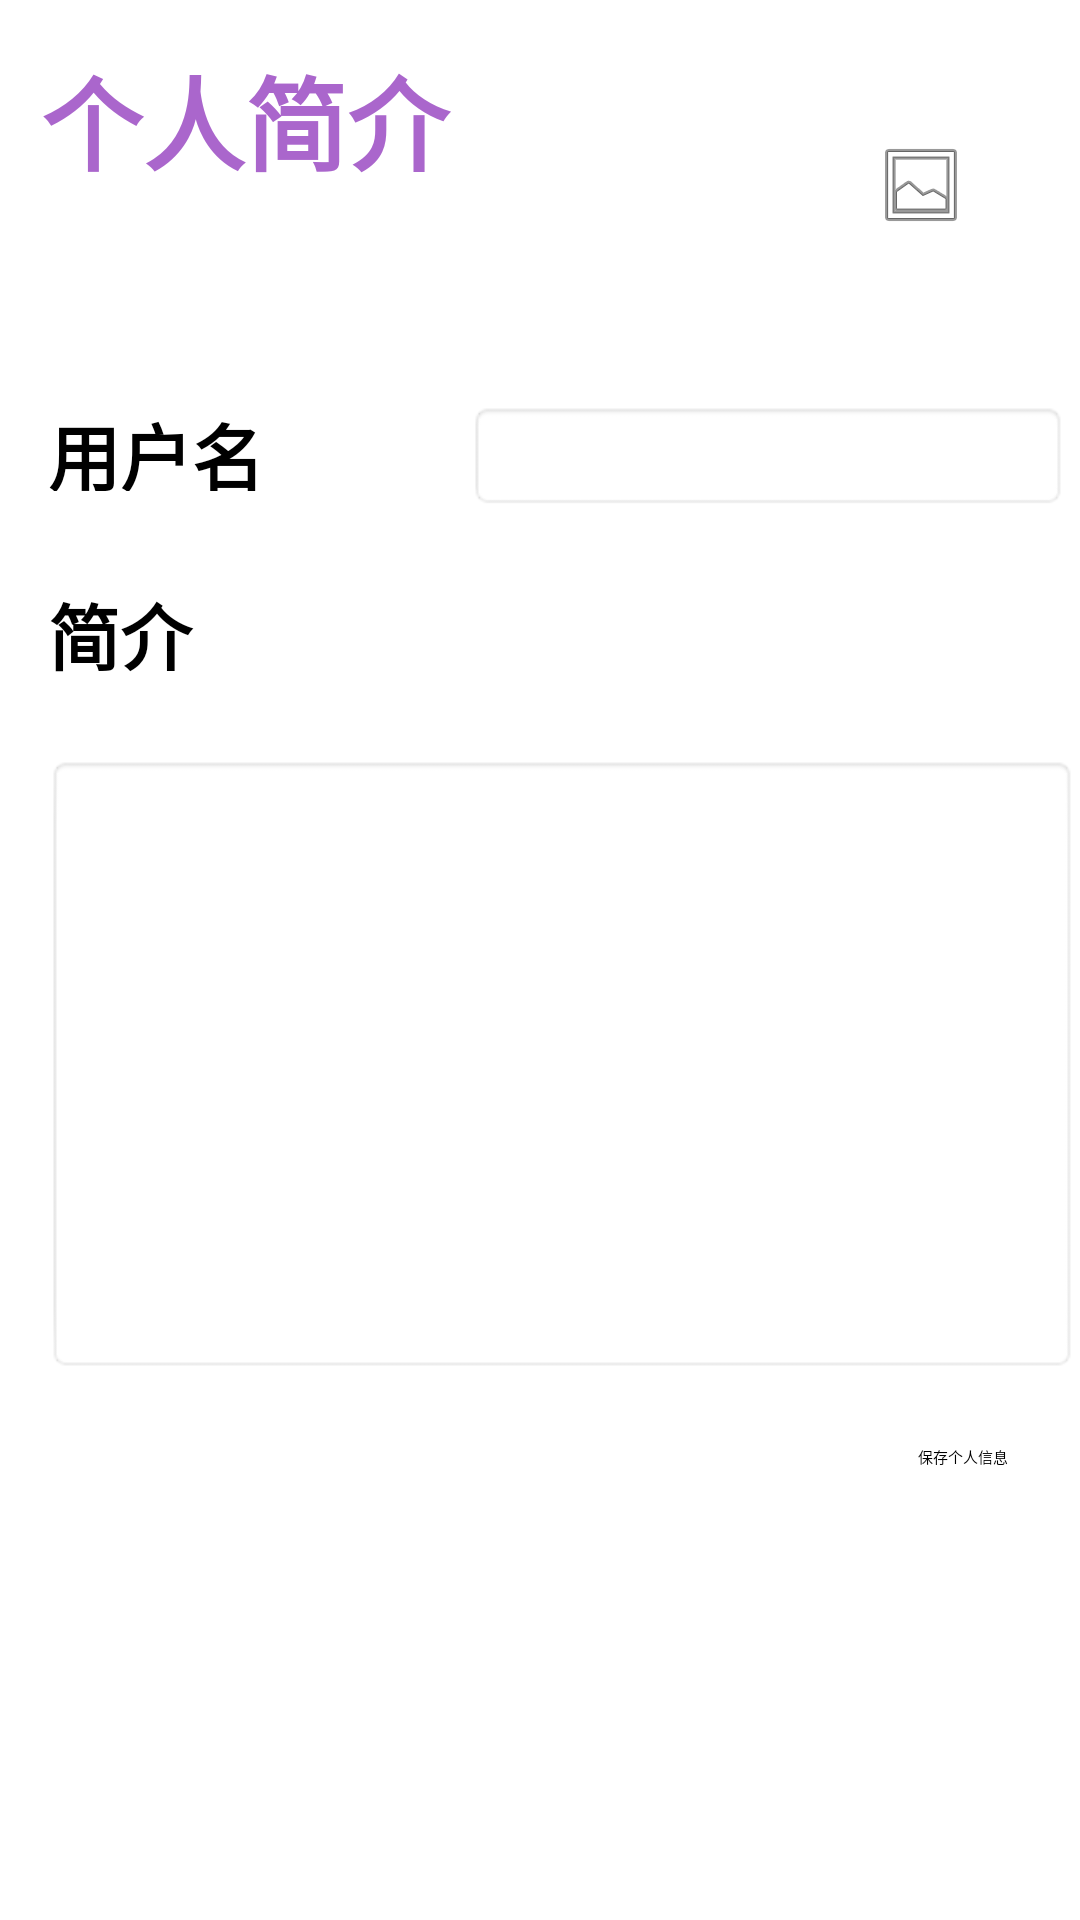

Icon bounding boxes for this 1080px x 1920px phone screenshot, format (left=x1, top=y1, right=x2, bottom=y2):
gallery: (left=885, top=149, right=957, bottom=221)
